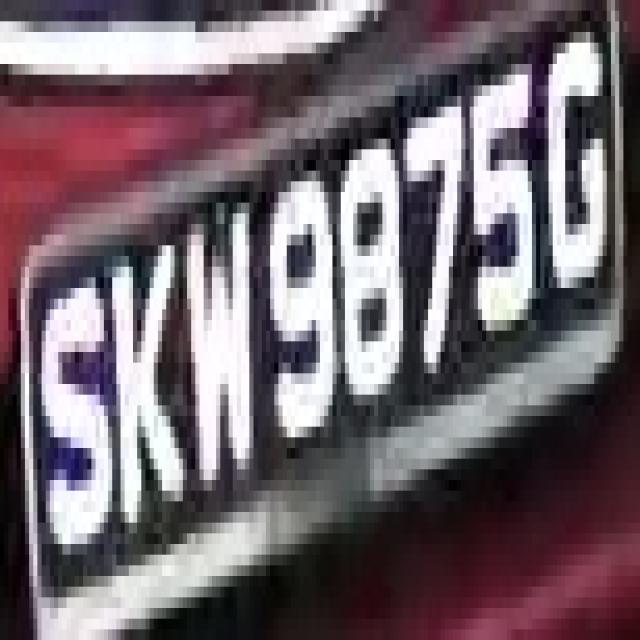5: (457, 54, 545, 342)
7: (403, 75, 461, 384)
8: (328, 117, 412, 406)
9: (266, 149, 341, 459)
G: (540, 32, 619, 309)
K: (100, 192, 187, 555)
S: (29, 224, 116, 587)
W: (175, 181, 266, 491)
